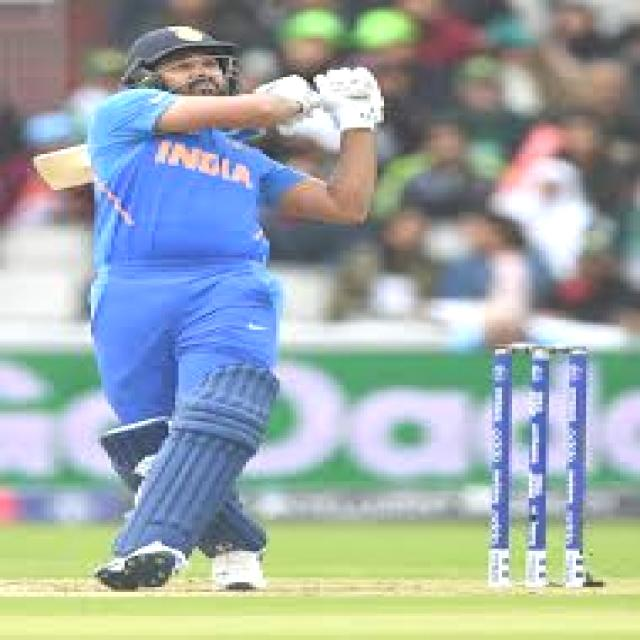toe: (14, 149, 68, 193)
